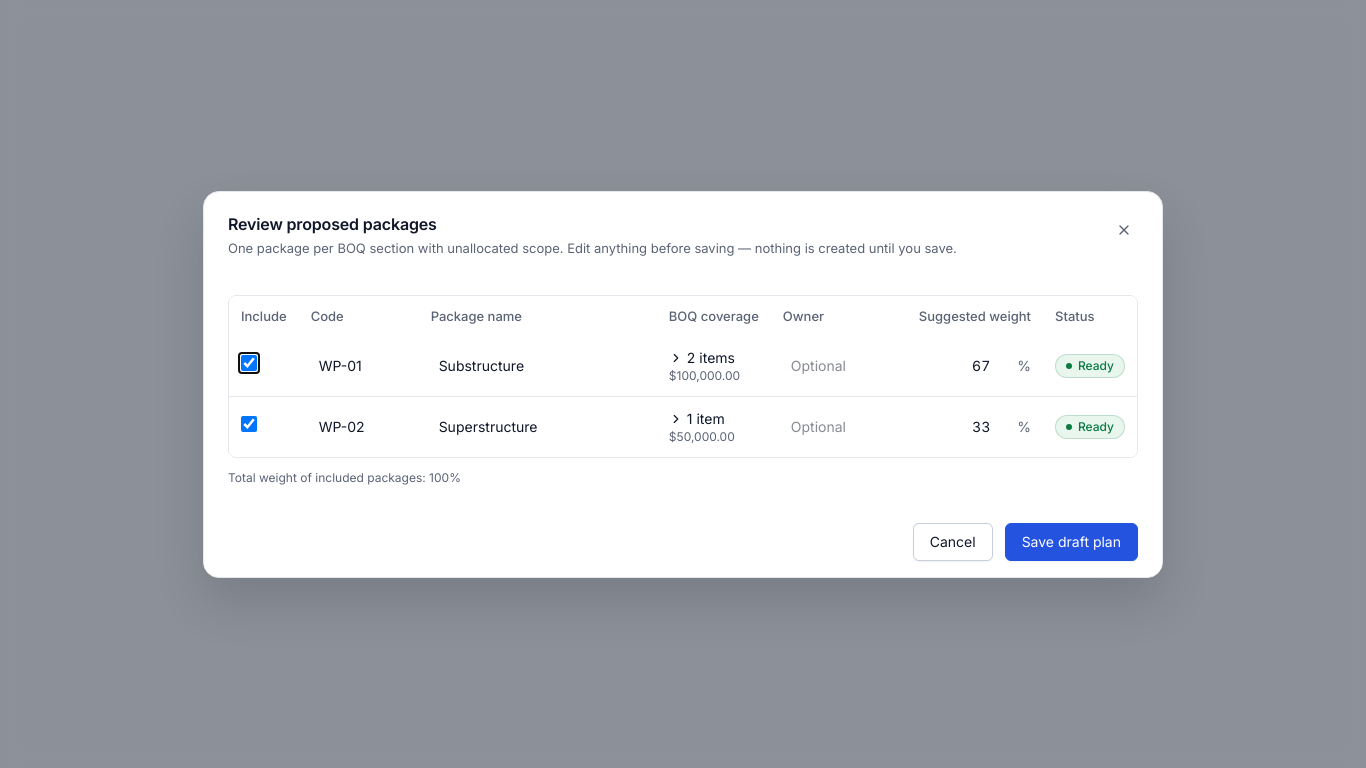
Test: DeliveryPlanDialog › keeps a weight the PM typed when the grouping is re-weighed
The width and height of the screenshot is (1366, 768).
Replace the text in the number field showing "67" in the row of "$100,000.00" with "50". click: (981, 366)
box: [949,352,1013,380]
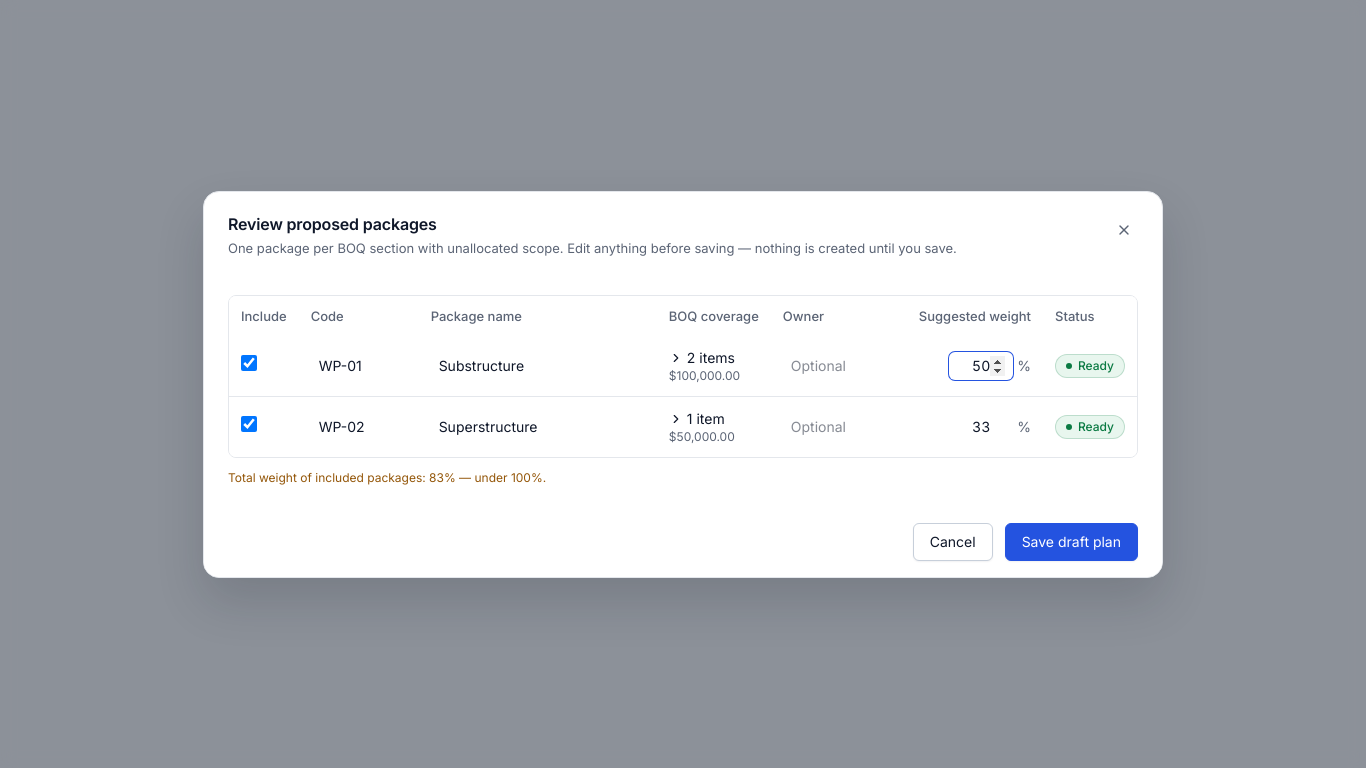
Click the button "2 items". click: (702, 358)
box: [669,348,735,368]
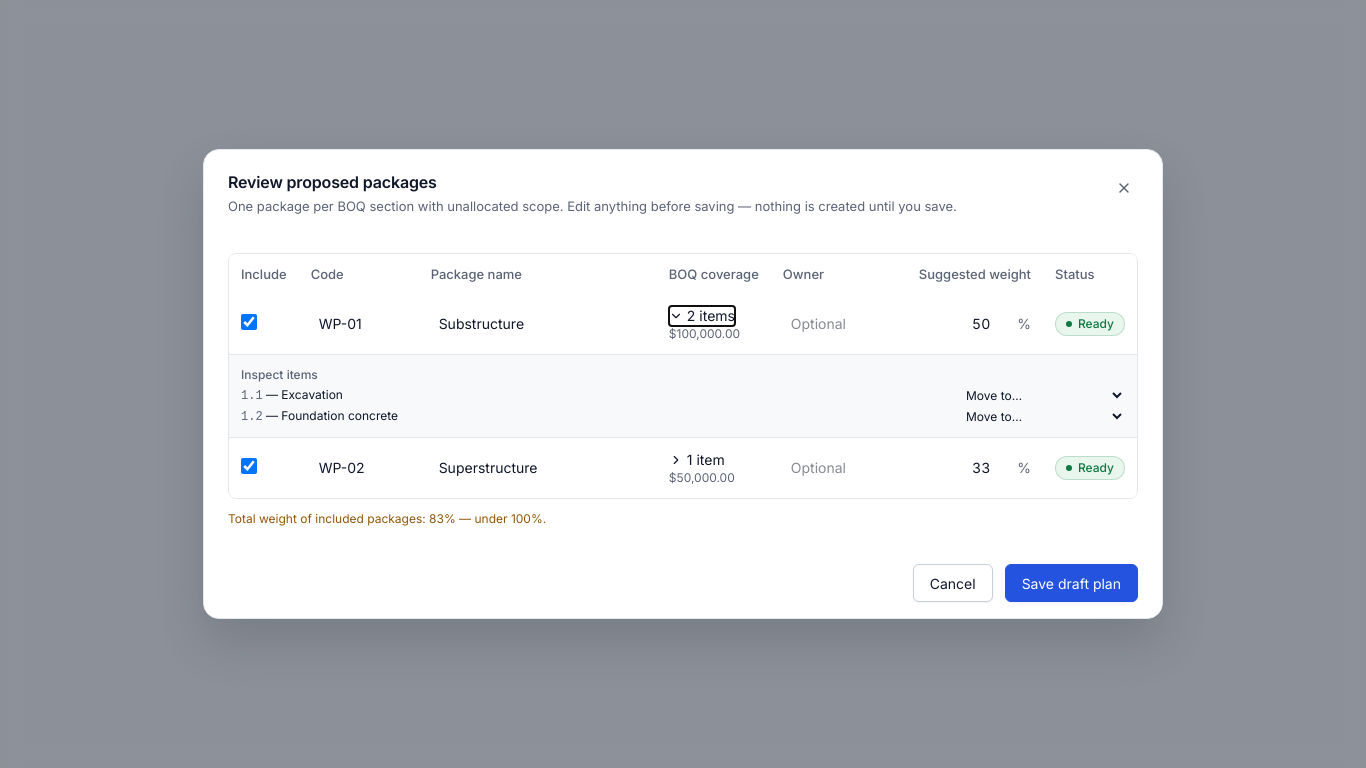
Select "WP-02 — Superstructure" in the dropdown named "Move 1.2 to another package". click: (1044, 416)
box: [962,408,1125,425]
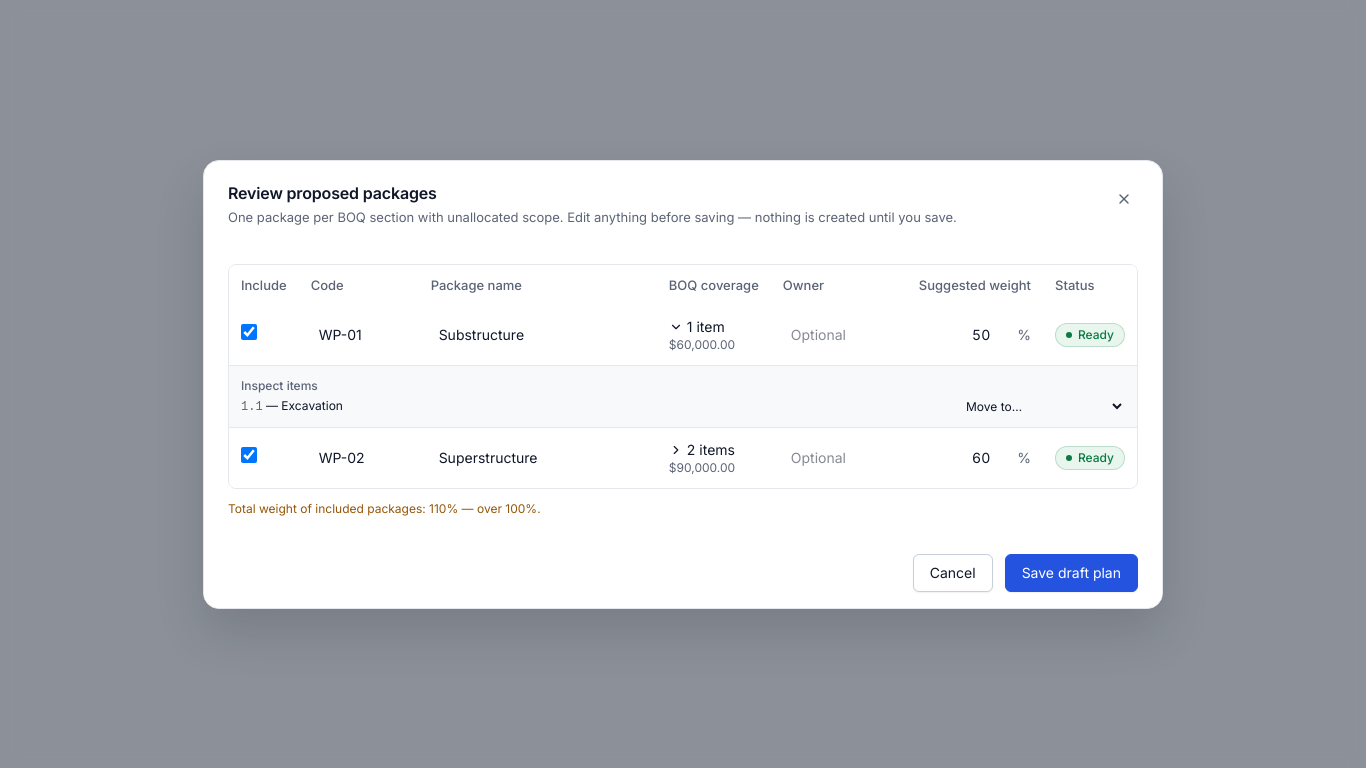
Expected: the number field showing "60" in the row of "$90,000.00" is shown, [949,444,1013,472]
